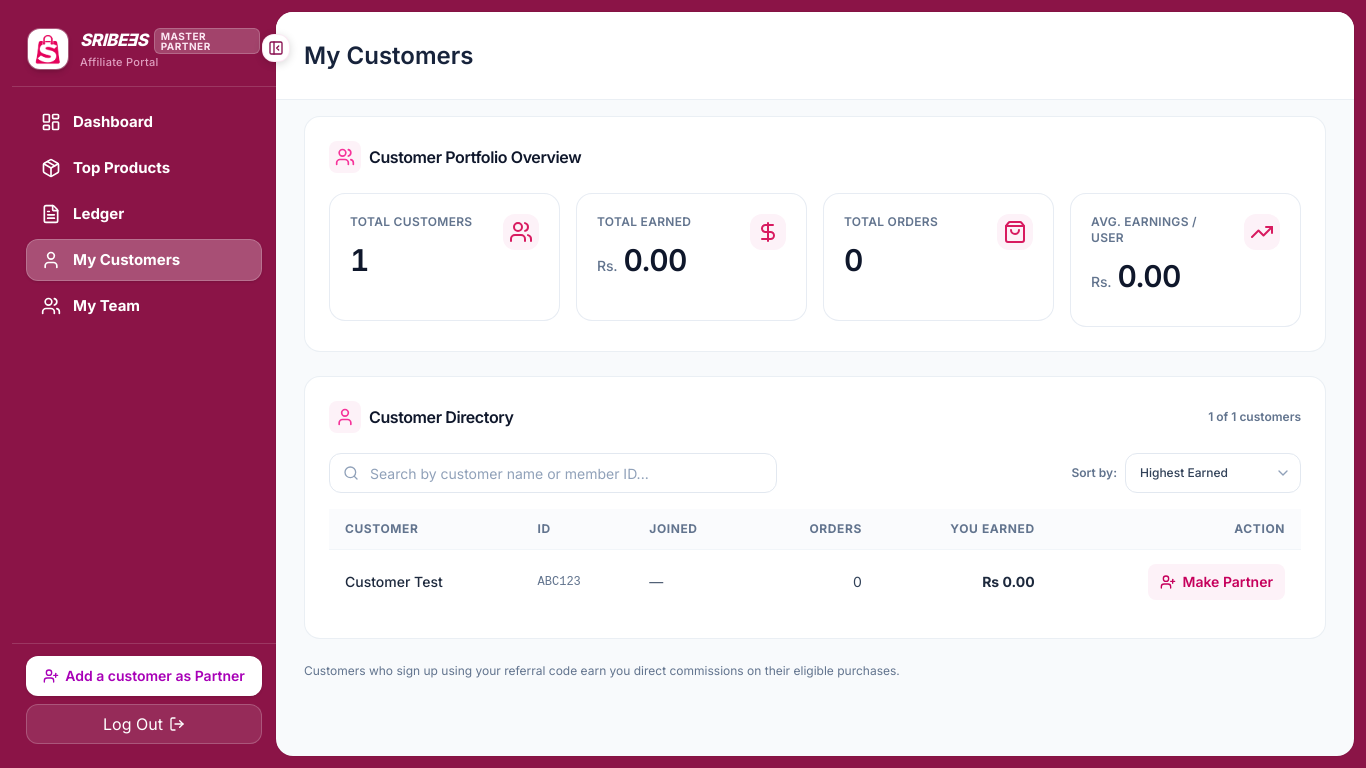
customer invitation channels › reports SMS=true and email=false accurately
What coordinates should you click on to do the following:
click the button "Make Partner"
I would click on:
 (1217, 582)
Its box is [1148,564,1285,600].
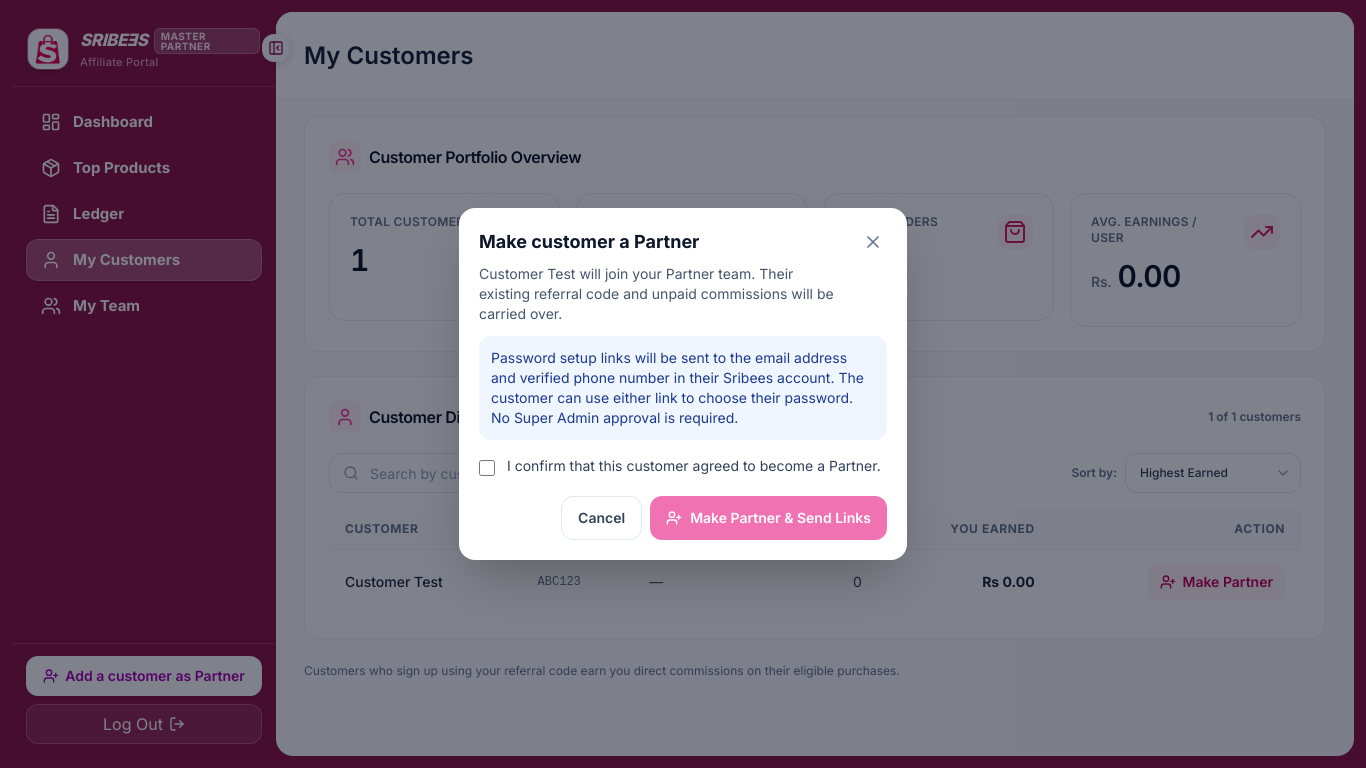
What coordinates should you click on to do the following:
click the checkbox
I would click on:
 (487, 468)
Its box is [479,460,495,476].
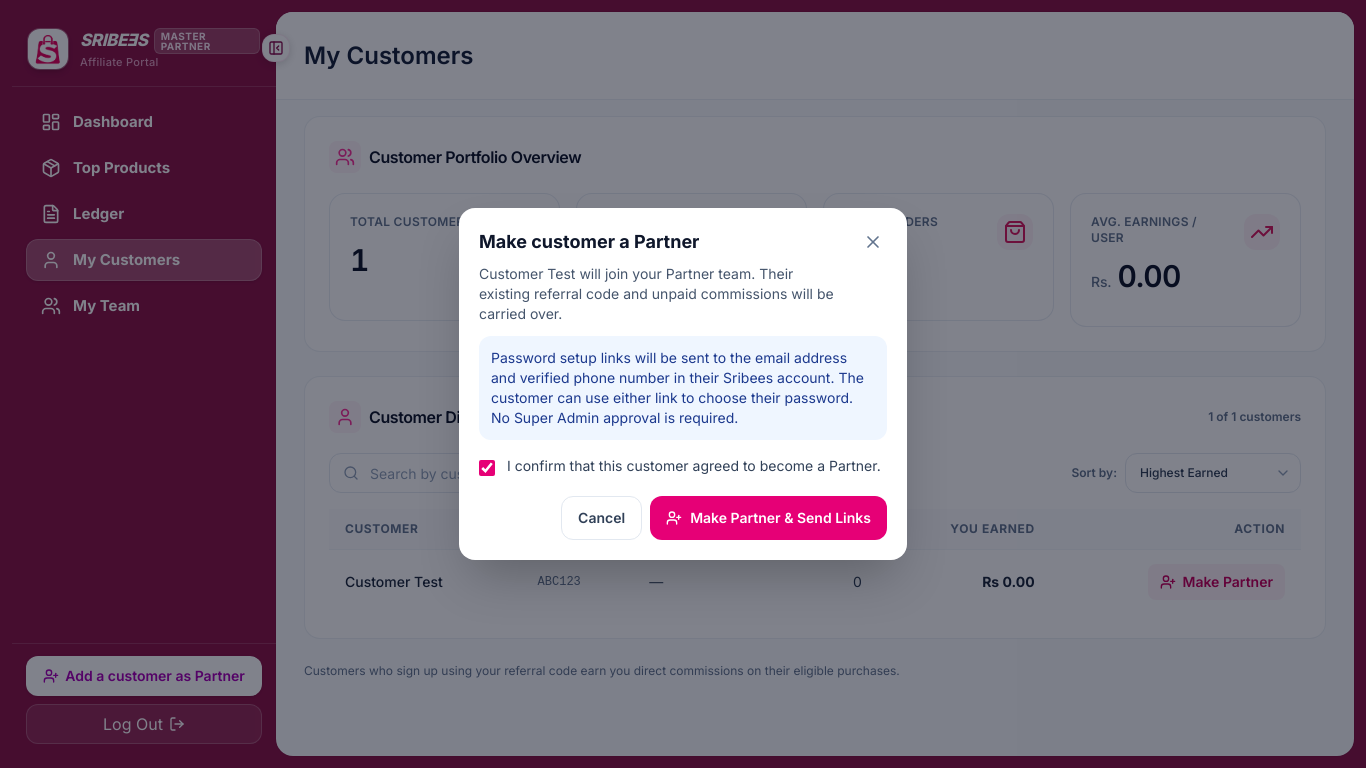
What coordinates should you click on to do the following:
click the button "Make Partner & Send Links"
I would click on:
 (769, 518)
Its box is [650,496,887,540].
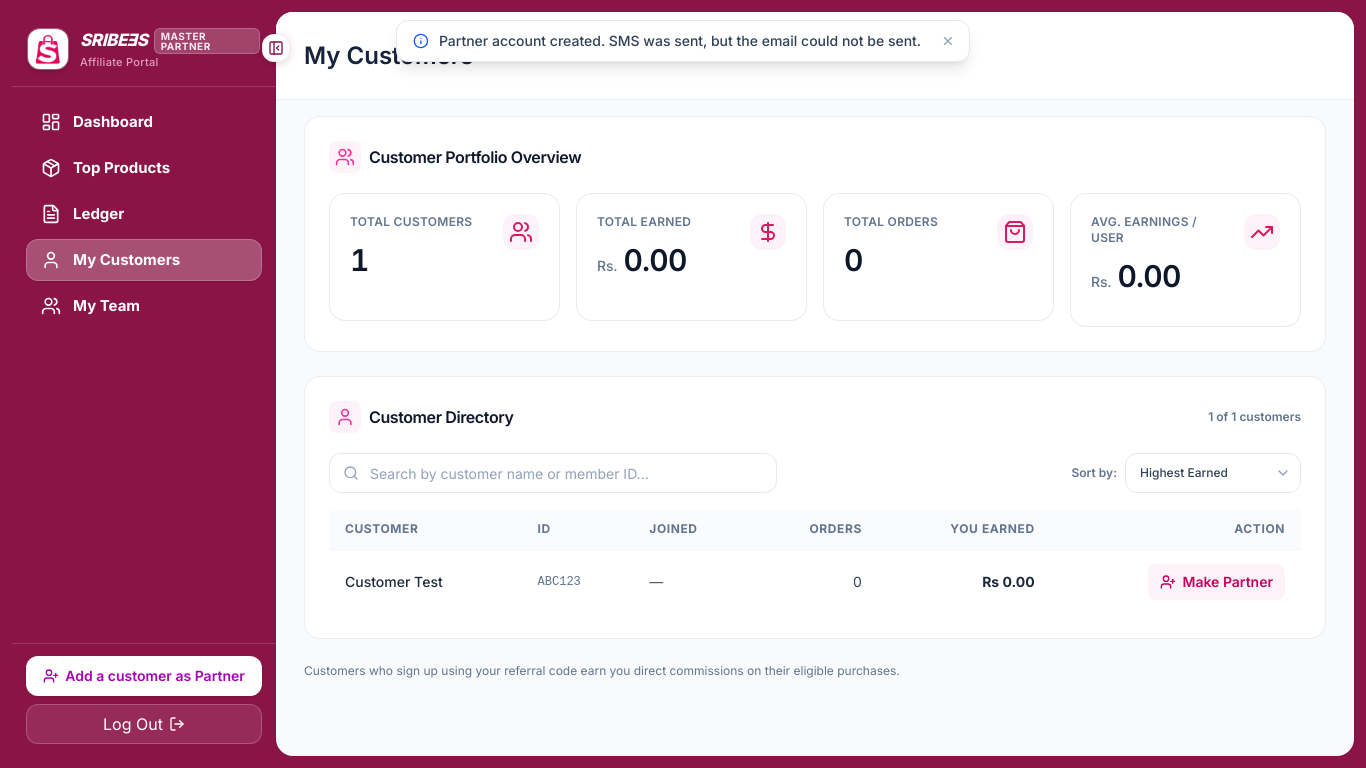
Expected: the text "Partner account created. SMS was sent, but the email could not be sent." is shown, [439,31,921,51]
